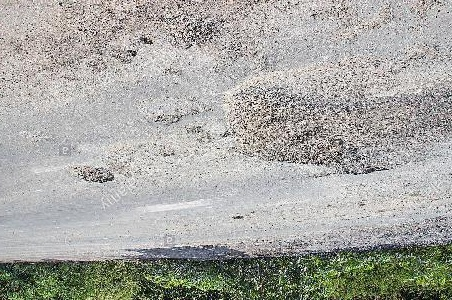pothole: (224, 74, 391, 178), (71, 163, 117, 187), (109, 49, 140, 65), (151, 112, 184, 125), (136, 34, 155, 45), (230, 212, 245, 221)
